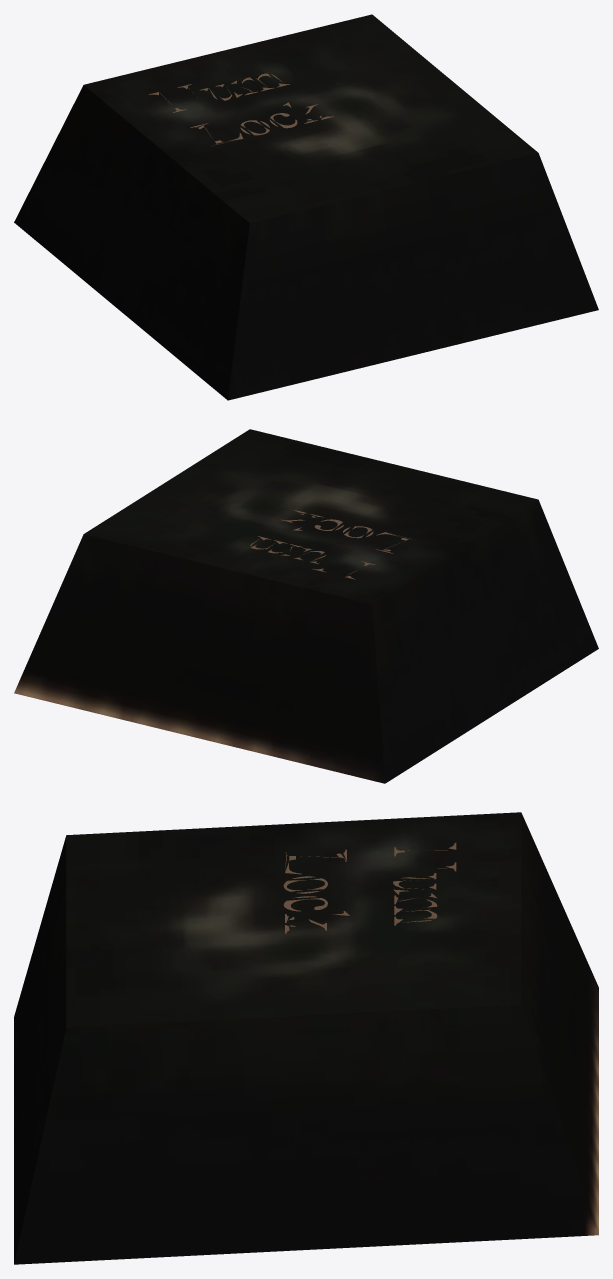
Rendered from link_61__key-67.glb.
3 renders of one model, top to bottom at view 1: azimuth 30°, elevation 25°; view 2: azimuth 150°, elevation 25°; view 3: azimuth 270°, elevation 25°, orthographic. The views are drawn at different scales.
Parts seen in each view (by area): view 1: geometry_0; view 2: geometry_0; view 3: geometry_0.
Part boxes in pixels (<box>): geometry_0: <box>14,14,598,400</box>; geometry_0: <box>14,429,598,783</box>; geometry_0: <box>14,812,598,1264</box>.
Size of the model in its own units: 0.0719 by 0.0315 by 0.0718.
Materials: 1 (1 with a texture image).
